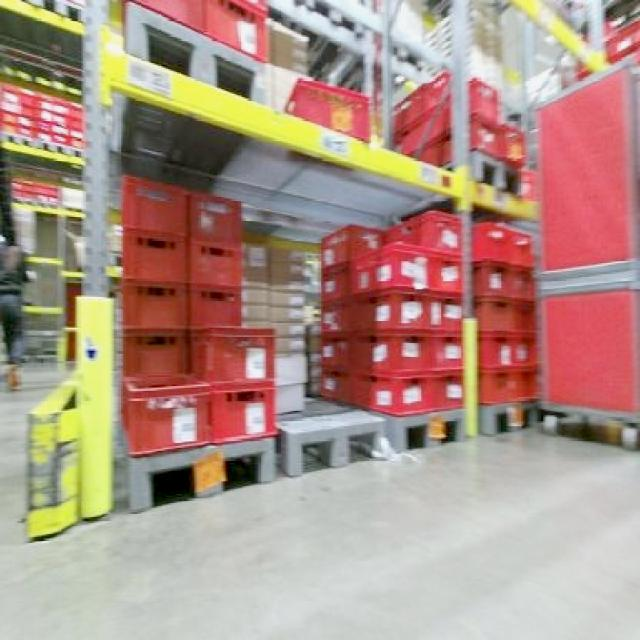pallets: (120, 174, 272, 508), (120, 174, 272, 452), (537, 63, 637, 446), (318, 209, 460, 412), (471, 220, 535, 402)
